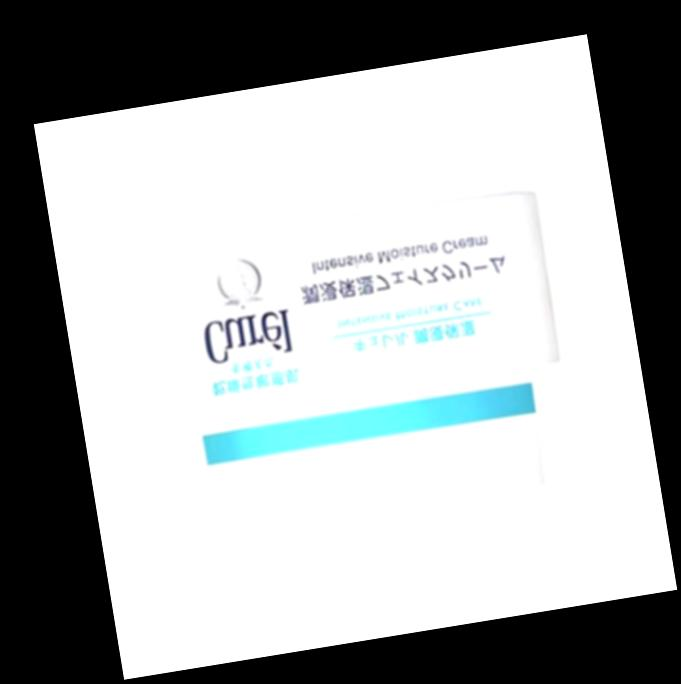cosmetic: (130, 188, 584, 548)
